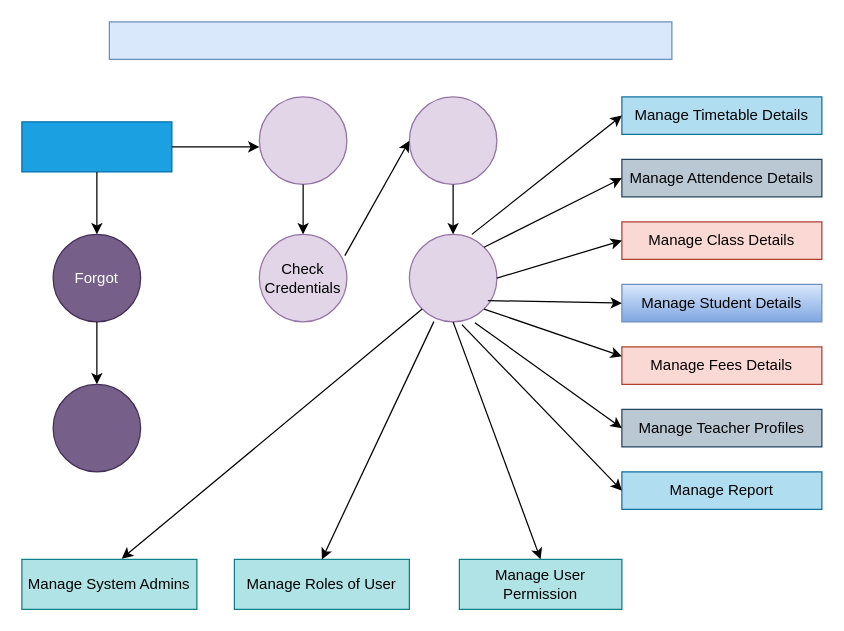
Image size: 844x631. Some labels were removed from this diagram. Here are the shapes that lost their labels. From the top down, the centre of each, then its label:
At (x=390, y=40): "Student Information System".
At (x=96, y=146): "Admin".
At (x=302, y=140): "Login to System".
At (x=452, y=140): "Check Roles of Access".
At (x=452, y=277): "Manage Modules".
At (x=96, y=427): "Send Email to User".
